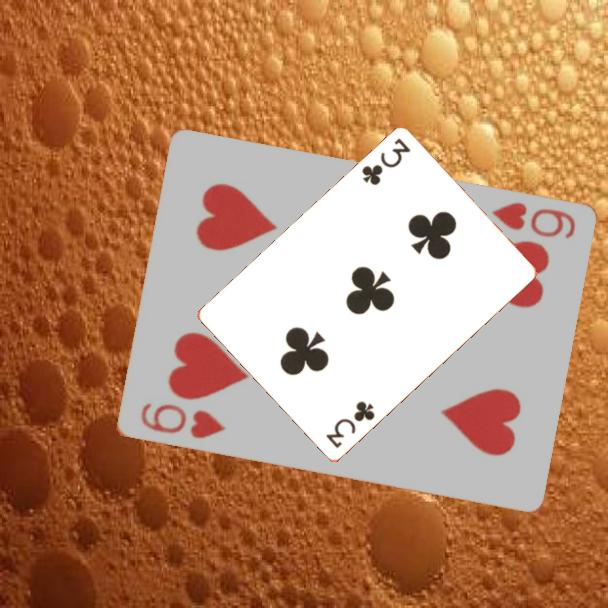c03: (322, 398, 378, 452), (358, 135, 413, 189)
h06: (136, 399, 228, 442), (487, 199, 578, 242)
